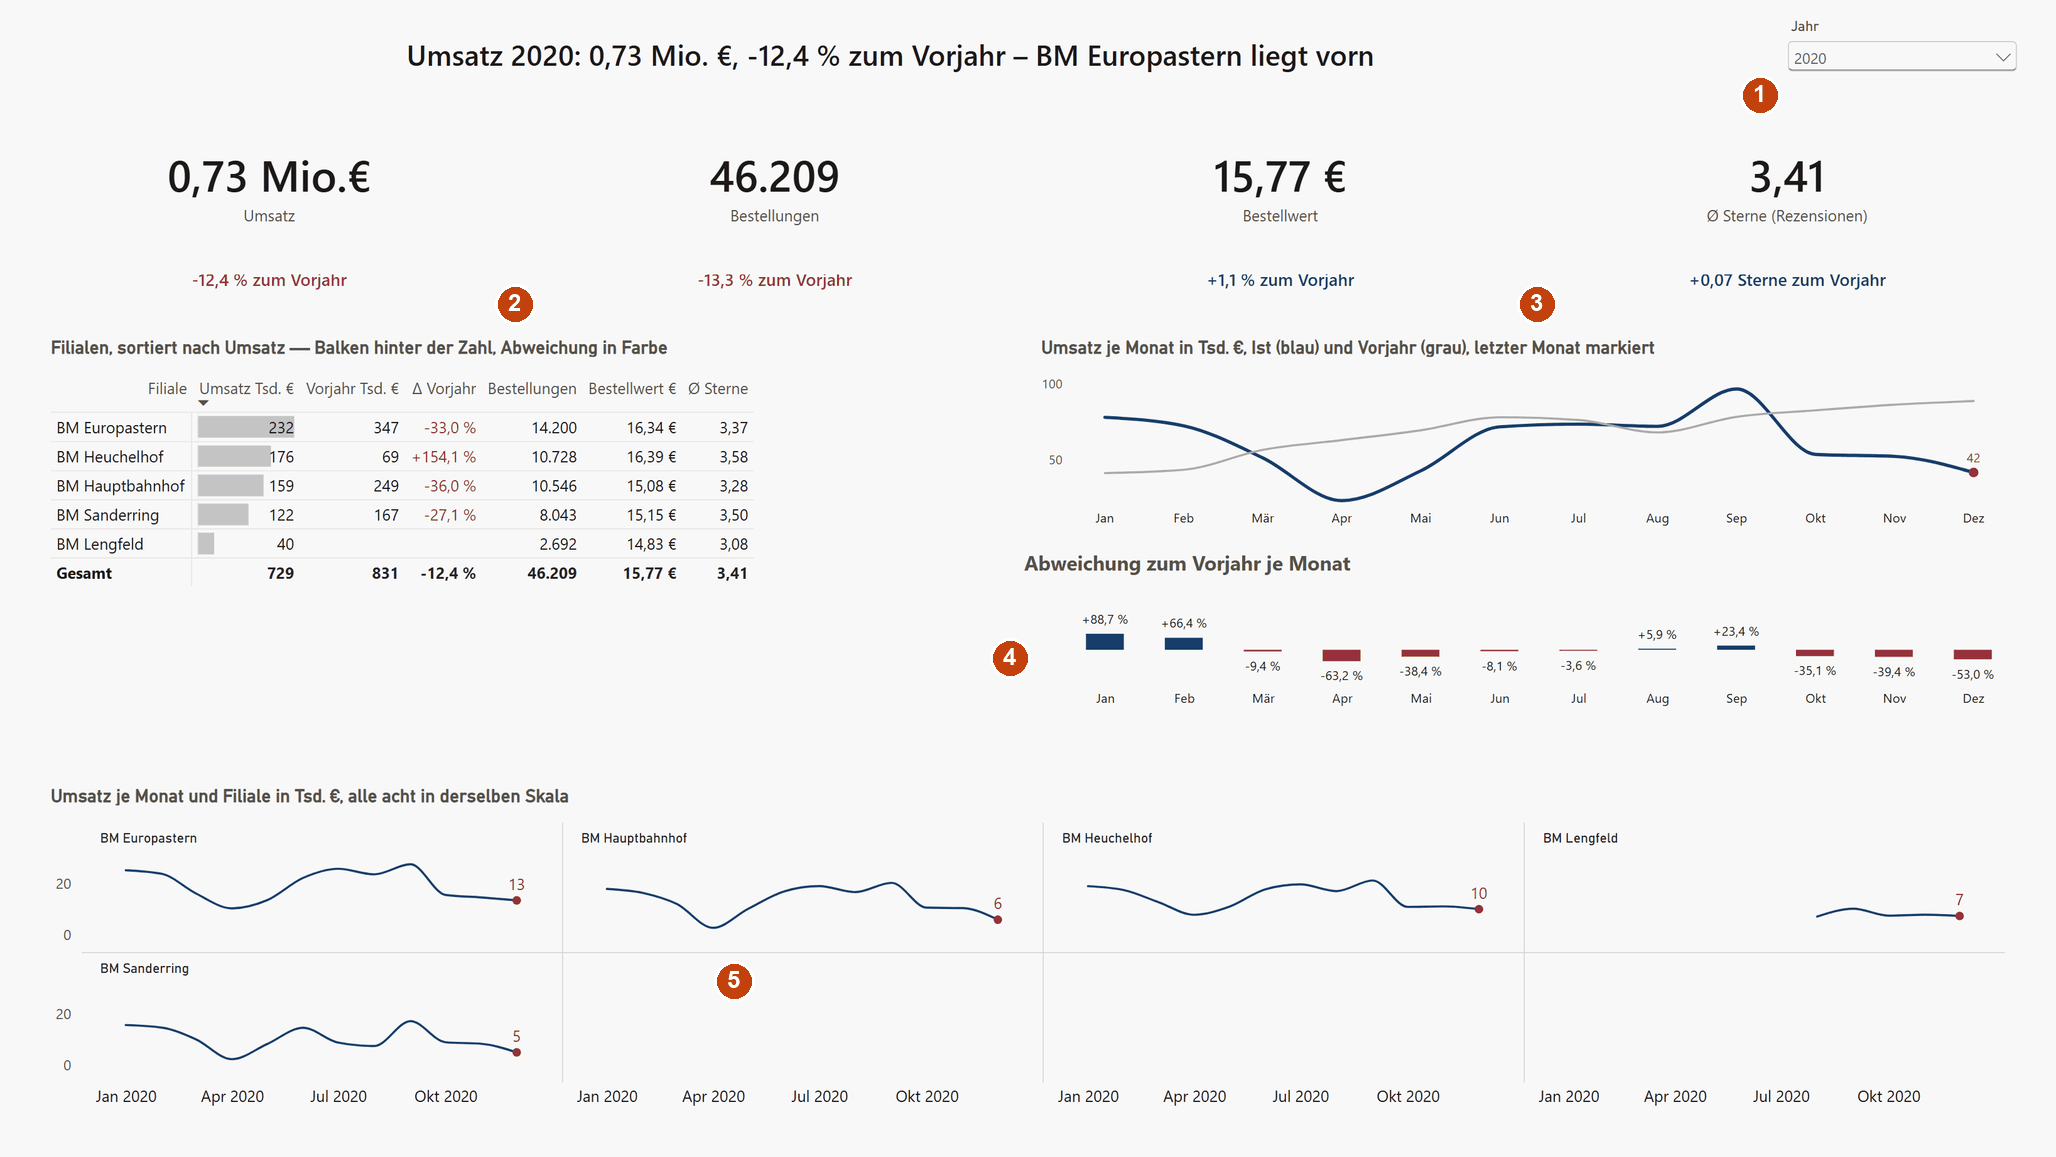

What the dashboard file says about the page in this screenshot:
{"tool":"tableau","page":{"name":"Dashboard 1","canvas":[1600,1000],"ordinal":0},"visuals":[{"type":"worksheet","title":"Titel","mark":"Automatic","box":[8,8,792,80]},{"type":"worksheet","title":"Umsatz je Monat","mark":"Automatic","rows":["Calculation_5100132365418516"],"cols":["date"],"box":[800,8,792,246]},{"type":"parameter","param":"[Parameters].[Parameter 5100132363096068]","box":[1432,8,160,52]},{"type":"worksheet","title":"Karte Umsatz","mark":"Automatic","box":[8,88,198,166]},{"type":"worksheet","title":"Karte Bestellungen","mark":"Automatic","box":[206,88,198,166]},{"type":"worksheet","title":"Karte Bestellwert","mark":"Automatic","box":[404,88,198,166]},{"type":"worksheet","title":"Karte Sterne","mark":"Automatic","box":[602,88,198,166]},{"type":"worksheet","title":"Filialen Umsatz","mark":"Automatic","rows":["branch_name"],"cols":["Calculation_5100132365291538"],"box":[8,254,297,246]},{"type":"worksheet","title":"Filialen Kennzahlen","mark":"Automatic","rows":["branch_name"],"box":[305,254,495,246]},{"type":"worksheet","title":"Abweichung je Monat","mark":"Bar","rows":["Calculation_5100132363948041"],"cols":["date"],"box":[800,254,792,246]},{"type":"worksheet","title":"Filialen je Monat","mark":"Automatic","rows":["branch_name","Calculation_5100132365291538","Calculation_5100132365418516"],"cols":["date"],"box":[8,500,1584,492]}]}

Visuals, with their boxes on the page's 1600x1000 design canvas (x1, y1, x2, y2). These are canvas units, not pixel positions in the 2056x1157 screenshot, which may show the page scaled, cropped or inside an application window:
"Titel" worksheet: 8:8:800:88
"Umsatz je Monat" worksheet: 800:8:1592:254
parameter: 1432:8:1592:60
"Karte Umsatz" worksheet: 8:88:206:254
"Karte Bestellungen" worksheet: 206:88:404:254
"Karte Bestellwert" worksheet: 404:88:602:254
"Karte Sterne" worksheet: 602:88:800:254
"Filialen Umsatz" worksheet: 8:254:305:500
"Filialen Kennzahlen" worksheet: 305:254:800:500
"Abweichung je Monat" worksheet (Bar marks): 800:254:1592:500
"Filialen je Monat" worksheet: 8:500:1592:992
